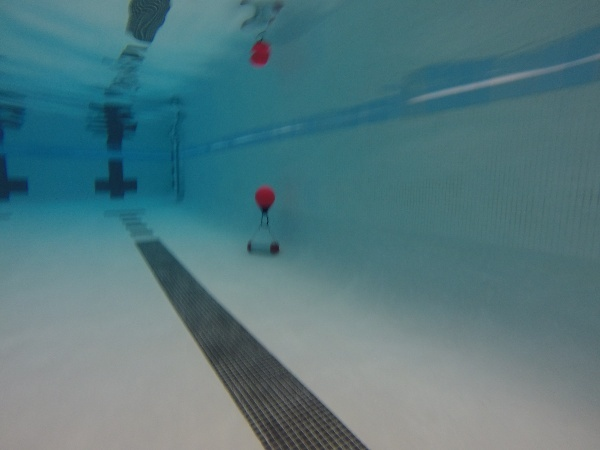buoy_red: (252, 184, 277, 214)
